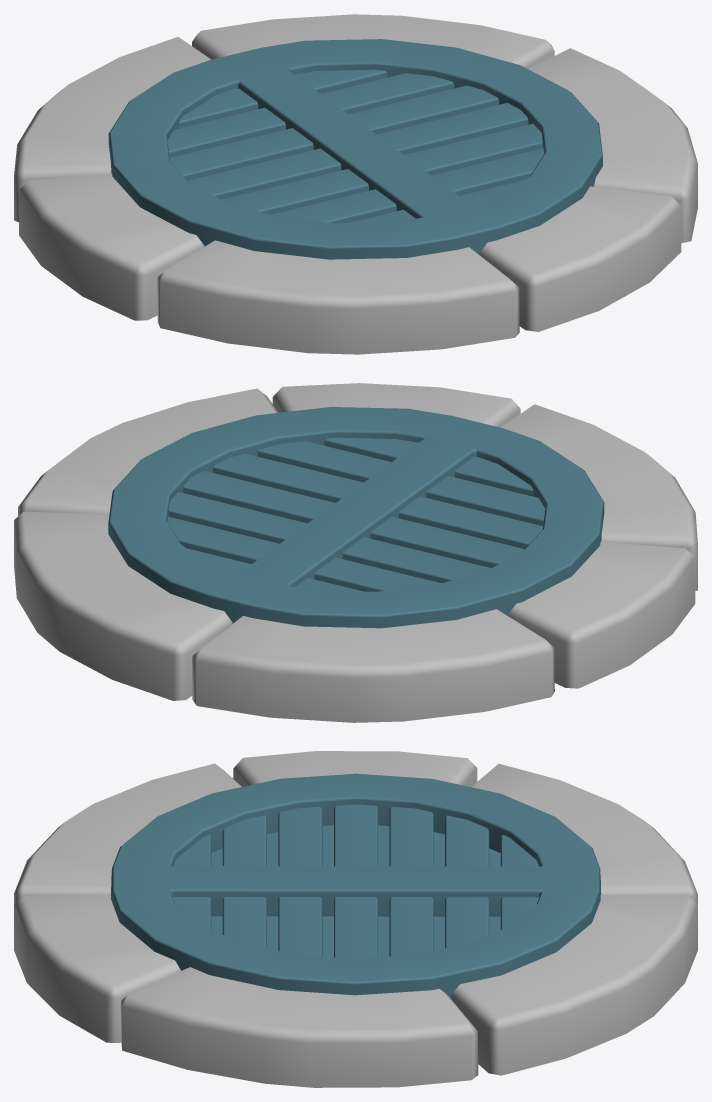
File: Town_6_Hatch_1.glb
The picture shows the model from 3 angles, top to bottom: view 1: azimuth 30°, elevation 25°; view 2: azimuth 150°, elevation 25°; view 3: azimuth 270°, elevation 25°; orthographic projection.
Visible parts, largest first — view 1: Town_6_Hatch_1; view 2: Town_6_Hatch_1; view 3: Town_6_Hatch_1.
Boxes of the visible parts, x1,y1,x2,y2 form: Town_6_Hatch_1: [14, 14, 697, 354]; Town_6_Hatch_1: [14, 383, 697, 722]; Town_6_Hatch_1: [14, 751, 697, 1087].
Bounding box in the file's own units: 1.83 × 0.2021 × 1.84.
1 material, 1 textured.
